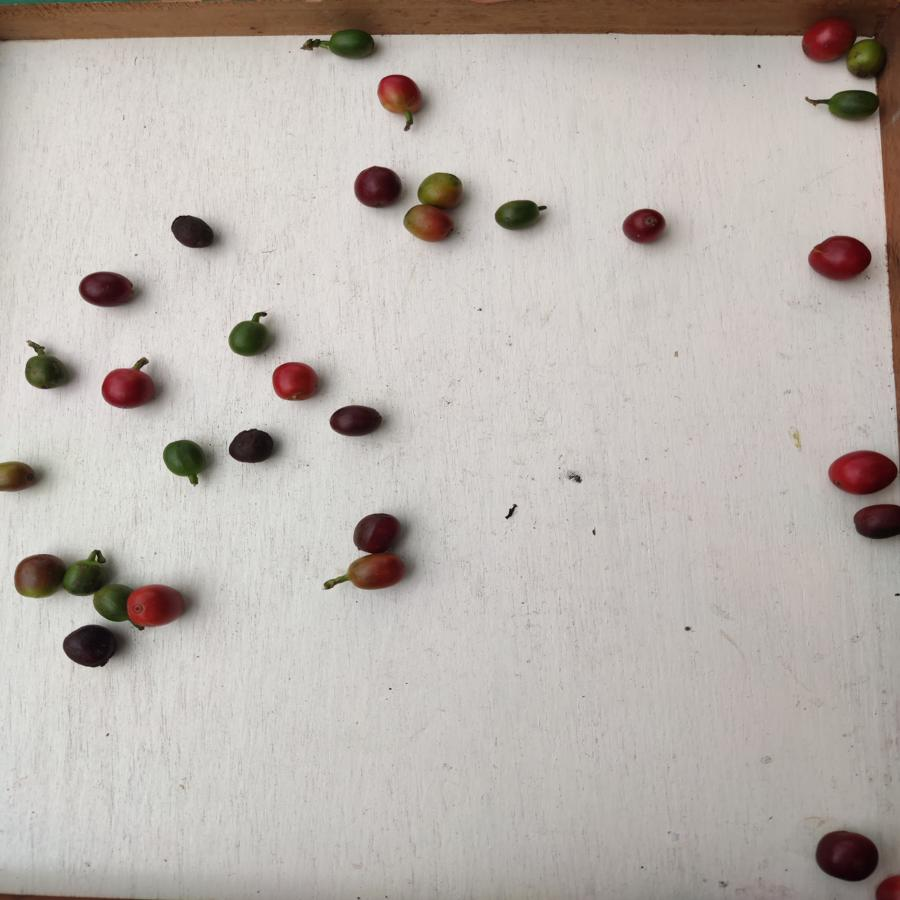Inmaduro: (493, 196, 550, 235), (823, 86, 880, 120), (224, 319, 271, 358), (322, 29, 384, 58), (22, 354, 69, 392), (163, 439, 207, 479), (62, 558, 106, 595), (94, 581, 130, 625)
Maduro: (825, 448, 900, 499), (805, 233, 871, 283), (127, 584, 189, 628), (98, 365, 157, 408), (799, 20, 847, 66), (375, 73, 425, 115), (271, 362, 320, 401)
Pinton: (13, 552, 64, 601), (403, 202, 458, 245), (345, 555, 407, 591), (414, 171, 468, 206), (848, 36, 886, 79), (1, 457, 42, 495)
Sobremaduro: (813, 826, 883, 885), (62, 626, 119, 671), (350, 512, 404, 556), (352, 165, 403, 210), (79, 271, 135, 308), (330, 402, 384, 440), (169, 212, 219, 252), (224, 428, 281, 463), (853, 501, 900, 543), (621, 208, 668, 246)
